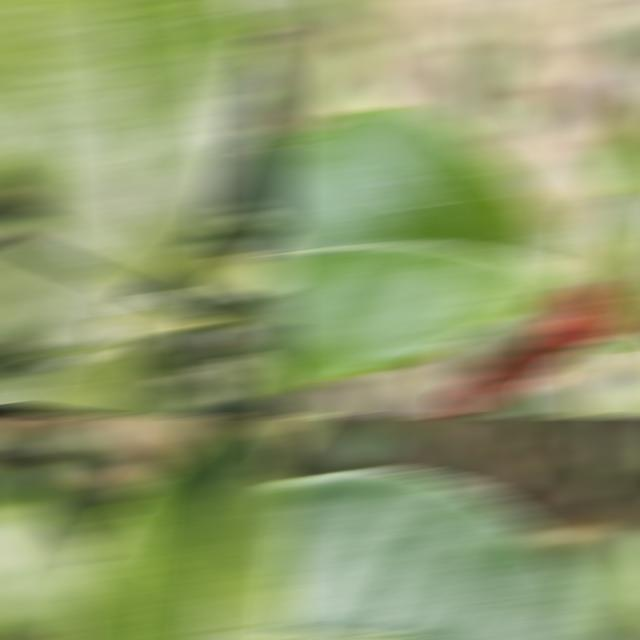Leaf: (270, 108, 580, 393), (0, 1, 264, 296), (270, 469, 618, 639), (58, 417, 292, 639), (0, 217, 136, 351), (534, 26, 625, 205), (0, 466, 93, 639), (21, 340, 194, 415), (563, 526, 640, 633), (595, 222, 640, 352), (587, 93, 640, 198), (212, 152, 292, 220), (155, 242, 256, 294), (227, 225, 292, 303), (457, 319, 543, 373), (161, 364, 249, 415), (584, 191, 640, 257), (316, 423, 397, 467), (128, 273, 202, 317), (218, 354, 284, 400)
